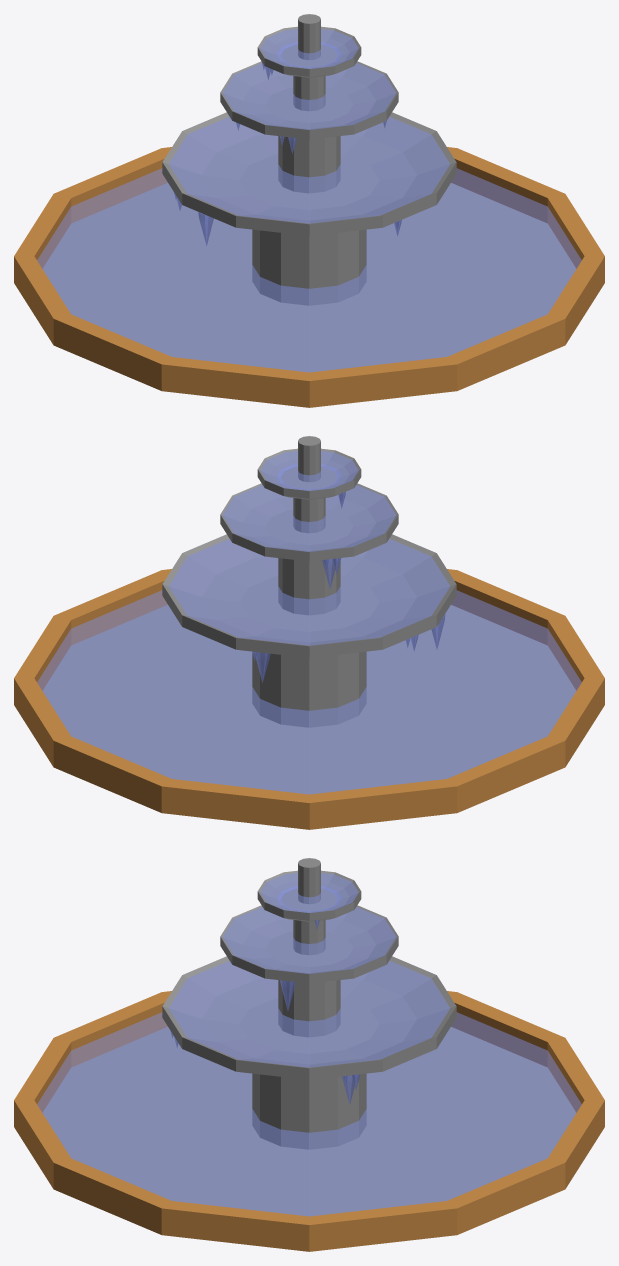
File: FrozenFountain.fbx
The picture shows the model from 3 angles, top to bottom: view 1: azimuth 30°, elevation 25°; view 2: azimuth 150°, elevation 25°; view 3: azimuth 270°, elevation 25°; orthographic projection.
Parts seen in each view (by area): view 1: Fountain, BottomIce, 1stIce, 2ndIce, 3rdIce; view 2: Fountain, BottomIce, 1stIce, 2ndIce, 3rdIce; view 3: Fountain, BottomIce, 1stIce, 2ndIce, 3rdIce.
Boxes of the visible parts, box(x1,y1,x2,y2) form: Fountain: box(14, 14, 604, 407); BottomIce: box(37, 168, 581, 372); 1stIce: box(169, 117, 449, 223); 2ndIce: box(222, 63, 396, 129); 3rdIce: box(260, 29, 358, 68); Fountain: box(14, 436, 604, 829); BottomIce: box(37, 590, 581, 794); 1stIce: box(169, 539, 449, 645); 2ndIce: box(222, 485, 396, 551); 3rdIce: box(260, 451, 358, 490); Fountain: box(14, 858, 604, 1251); BottomIce: box(37, 1012, 581, 1216); 1stIce: box(169, 961, 449, 1067); 2ndIce: box(222, 907, 396, 973); 3rdIce: box(260, 873, 358, 912).
Size of the model in its own units: 600 by 296 by 600.
